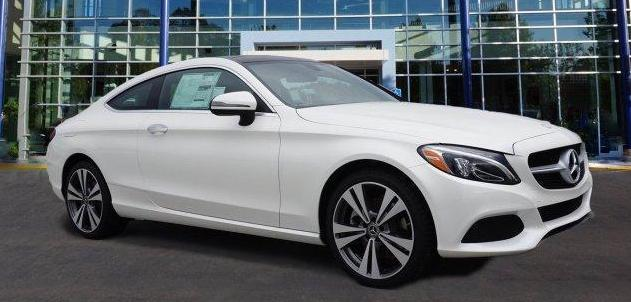C300Coupe: (45, 50, 599, 286)
